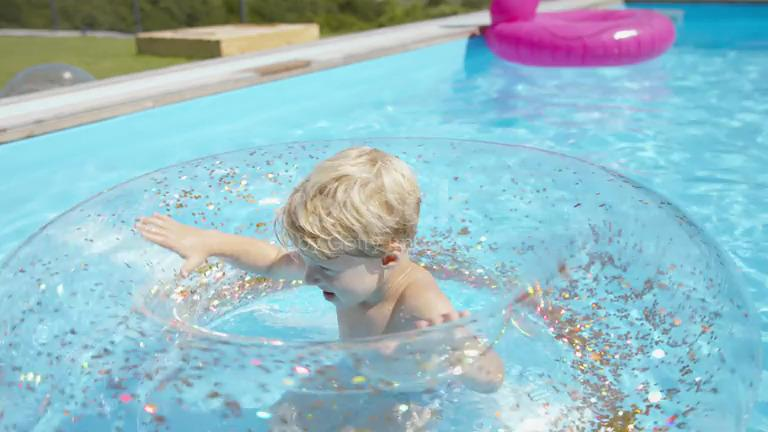Swimming: (6, 88, 738, 421)
